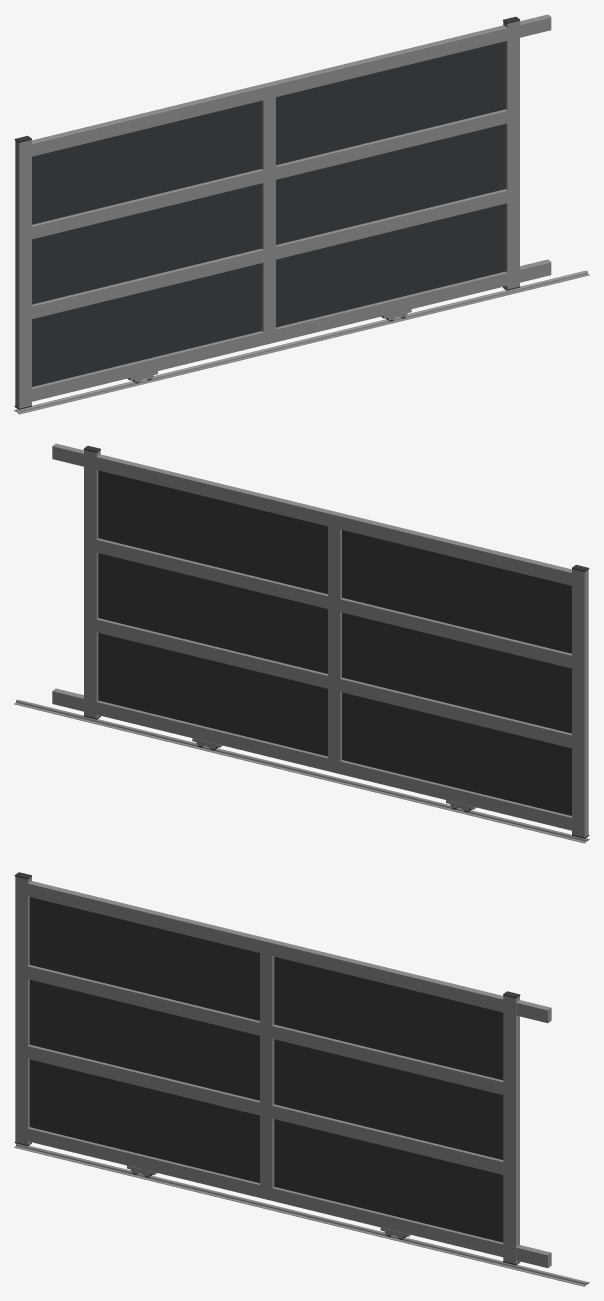
3 renders of one model, top to bottom at view 1: azimuth 30°, elevation 25°; view 2: azimuth 150°, elevation 25°; view 3: azimuth 330°, elevation 25°, orthographic.
Visible parts, largest first — view 1: Box2391, Box2330, Shape107412142, Shape107412141, Shape107412138, Shape107412135, Pilar, Pilar001, Rail, Shape107413007; view 2: Box2391, Box2330, Shape107412142, Shape107412141, Shape107412135, Shape107412138, Pilar, Pilar001, Rail, Shape107413007; view 3: Box2330, Box2391, Shape107412142, Shape107412141, Shape107412138, Shape107412135, Pilar001, Pilar, Rail, Shape107413007.
Part boxes in pixels (bbox=[...]): Box2391: bbox=[276, 41, 505, 327]; Box2330: bbox=[32, 101, 261, 386]; Shape107412142: bbox=[32, 14, 551, 156]; Shape107412141: bbox=[32, 259, 551, 401]; Shape107412138: bbox=[32, 109, 507, 239]; Shape107412135: bbox=[32, 189, 507, 319]; Pilar: bbox=[15, 140, 31, 408]; Pilar001: bbox=[503, 21, 519, 289]; Rail: bbox=[14, 270, 589, 414]; Shape107413007: bbox=[261, 97, 275, 332]; Box2391: bbox=[98, 470, 327, 756]; Box2330: bbox=[342, 530, 571, 815]; Shape107412142: bbox=[52, 443, 571, 585]; Shape107412141: bbox=[52, 688, 571, 830]; Shape107412135: bbox=[96, 618, 571, 748]; Shape107412138: bbox=[96, 538, 571, 668]; Pilar: bbox=[572, 569, 588, 837]; Pilar001: bbox=[84, 450, 100, 718]; Rail: bbox=[14, 699, 589, 843]; Shape107413007: bbox=[328, 526, 341, 761]; Box2330: bbox=[29, 897, 259, 1183]; Box2391: bbox=[274, 956, 503, 1242]; Shape107412142: bbox=[28, 881, 551, 1023]; Shape107412141: bbox=[28, 1127, 551, 1267]; Shape107412138: bbox=[28, 965, 503, 1094]; Shape107412135: bbox=[28, 1044, 503, 1174]; Pilar001: bbox=[503, 995, 519, 1264]; Pilar: bbox=[15, 876, 31, 1144]; Rail: bbox=[14, 1143, 589, 1286]; Shape107413007: bbox=[260, 953, 274, 1187].
Bounding box in the file's own units: 3600 × 1640 × 60.02.
5 materials, 2 textured.
